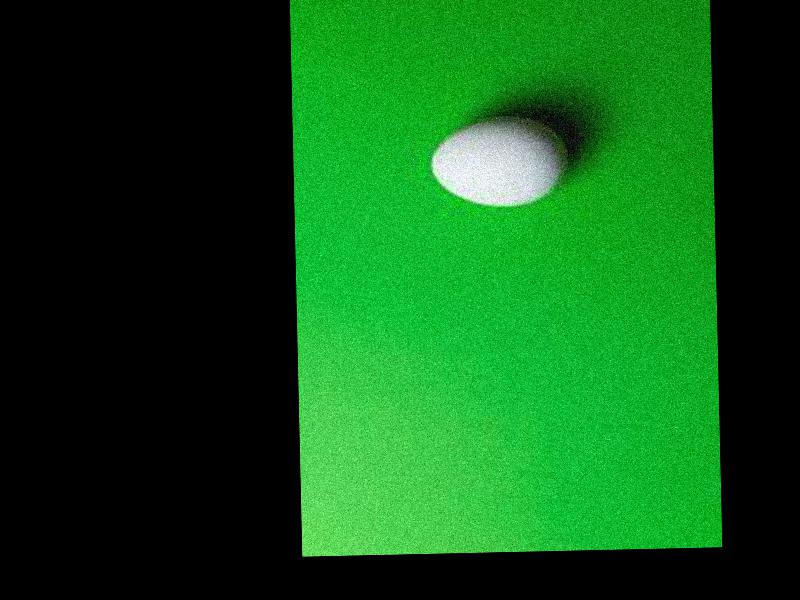Eggs: (429, 115, 568, 206)
